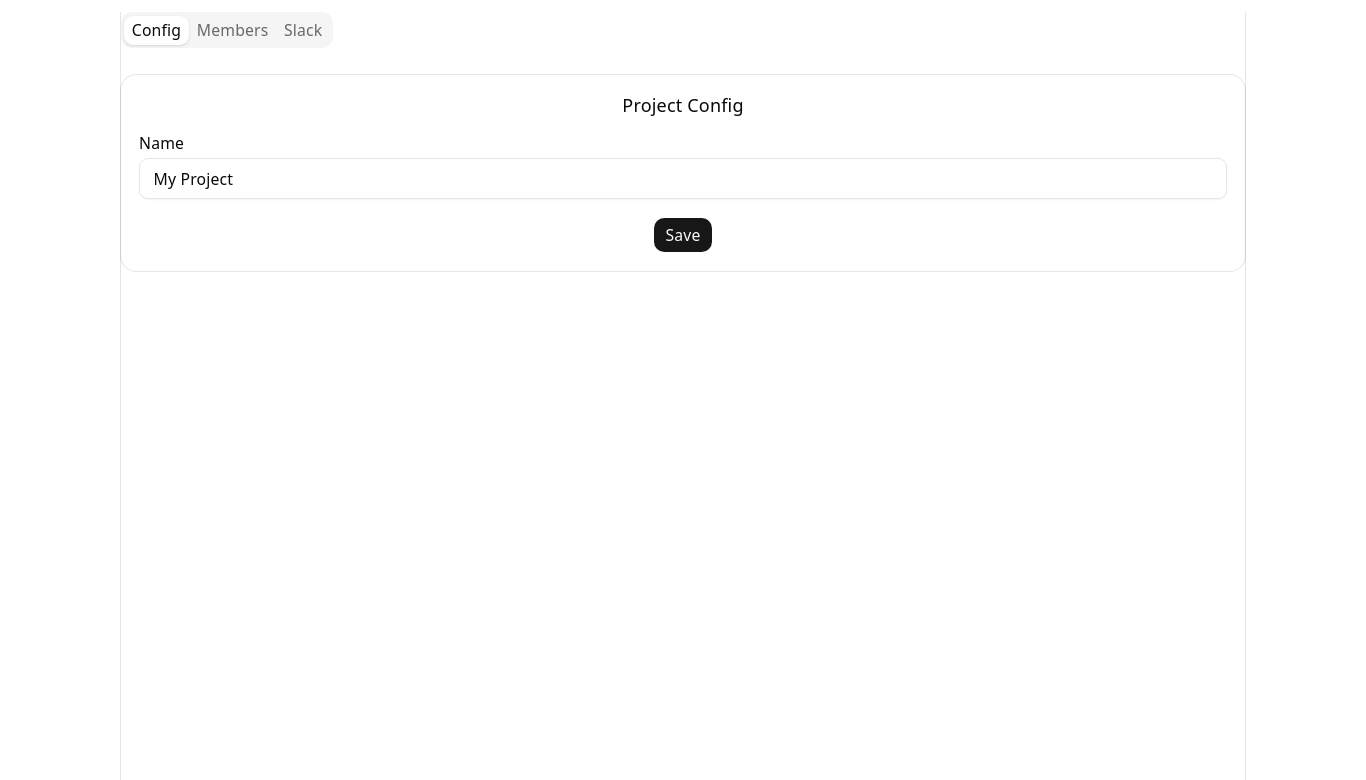
Test: ProjectSettings › renders member emails
This screenshot has width=1366, height=780.
Expected: the field showing "My Project" is shown, x1=139 y1=158 x2=1227 y2=199
Click the tab "Members": (233, 30) x1=189 y1=16 x2=276 y2=44
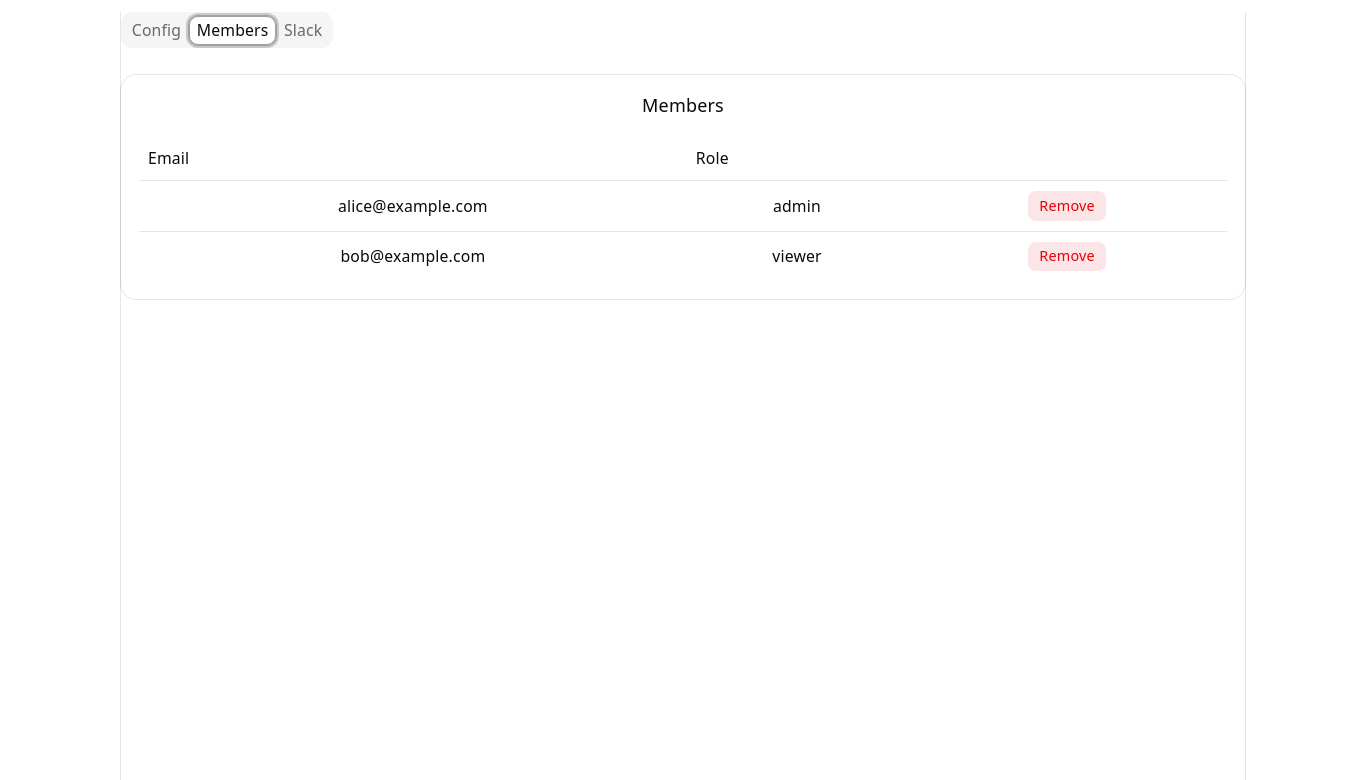
Expected: the text "alice@example.com" is shown, x1=139 y1=181 x2=687 y2=231
Expected: the text "bob@example.com" is shown, x1=139 y1=231 x2=687 y2=281
